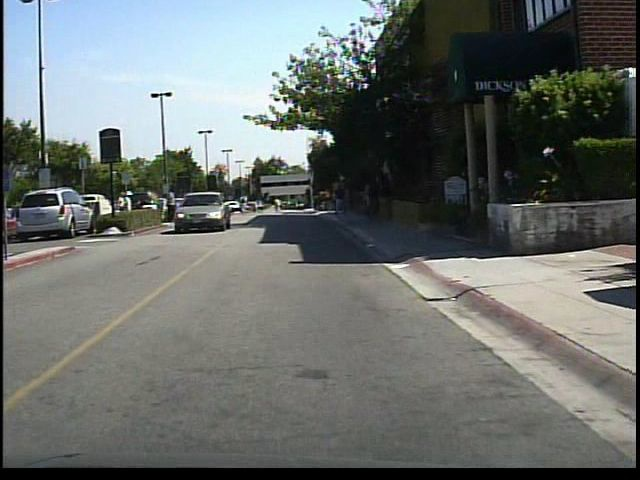person: (162, 185, 180, 225), (333, 177, 348, 218), (115, 190, 130, 230), (124, 187, 138, 229), (238, 189, 252, 218)
